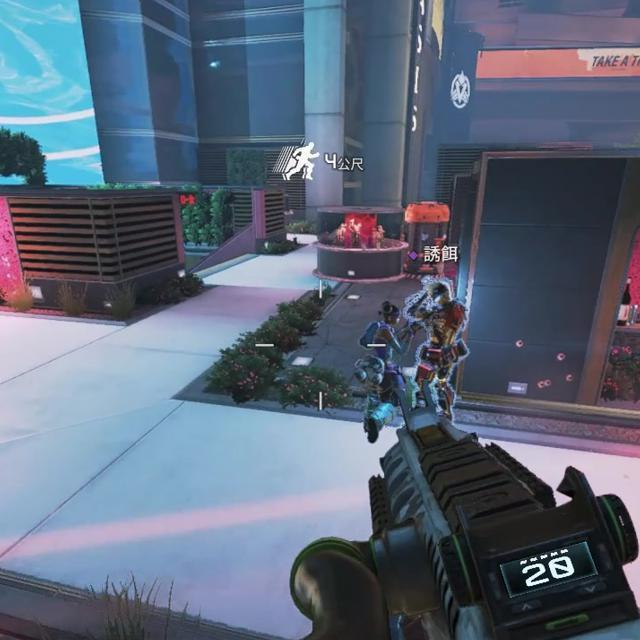avatar: (403, 280, 471, 423), (352, 300, 405, 445)
